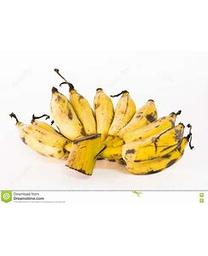banana: (13, 86, 195, 176)
